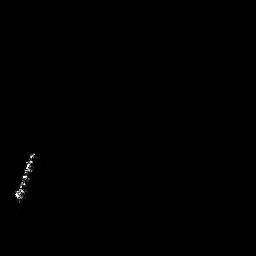ship: (14, 150, 37, 205)
